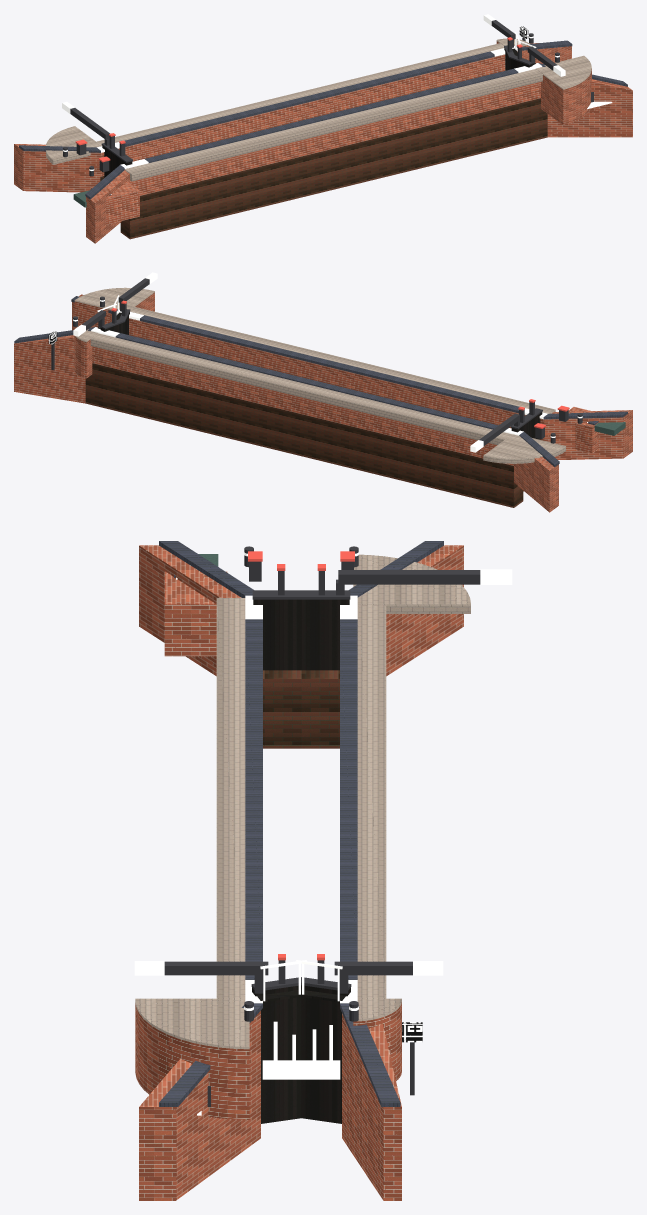
The model's file is lock-25.glb.
3 views of the same model, one above another, from view 1: azimuth 30°, elevation 25°; view 2: azimuth 150°, elevation 25°; view 3: azimuth 270°, elevation 25° (orthographic). The views are drawn at different scales.
Parts seen in each view (by area): view 1: Chamber, ChamberWet, Edge, Coping.001, TopGateCap, Coping, TopGate; view 2: Chamber, ChamberWet, Edge, Coping.001, TopGateCap, Coping, TopGate; view 3: Chamber, Edge, Coping.001, TopGate, TopGateCap, ChamberWet, Coping, Leak.
Part boxes in pixels (x1,y1,x2,y2): Chamber: (14,41,632,243); ChamberWet: (100,98,547,239); Edge: (45,38,591,181); Coping.001: (19,40,627,199); TopGateCap: (63,20,593,176); Coping: (62,14,565,170); TopGate: (102,48,535,177); Chamber: (14,292,632,512); ChamberWet: (85,363,523,507); Edge: (74,287,565,463); Coping.001: (14,296,627,466); TopGateCap: (51,278,582,445); Coping: (73,272,582,452); TopGate: (98,312,542,439); Chamber: (135,545,463,1200); Edge: (135,554,470,1049); Coping.001: (159,541,443,1106); TopGate: (252,599,350,1123); TopGateCap: (164,546,480,1106); ChamberWet: (263,670,339,748); Coping: (134,552,512,1010); Leak: (176,577,340,1115).
Bounding box in the file's own units: 33.71 × 5.11 × 10.23.
Materials: 11 (8 with a texture image).
